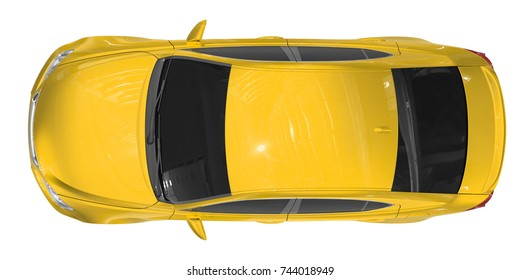car: (27, 33, 507, 227)
